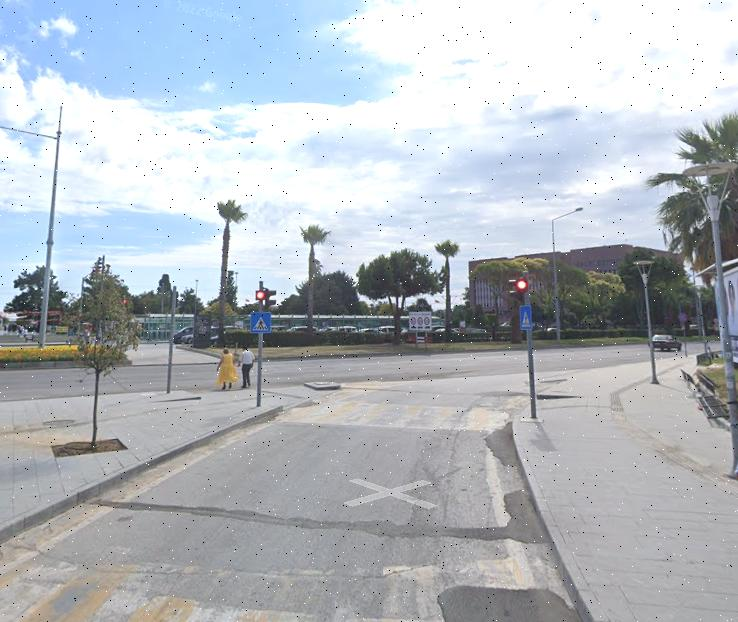redlight: (516, 276, 529, 294), (255, 290, 267, 303)
